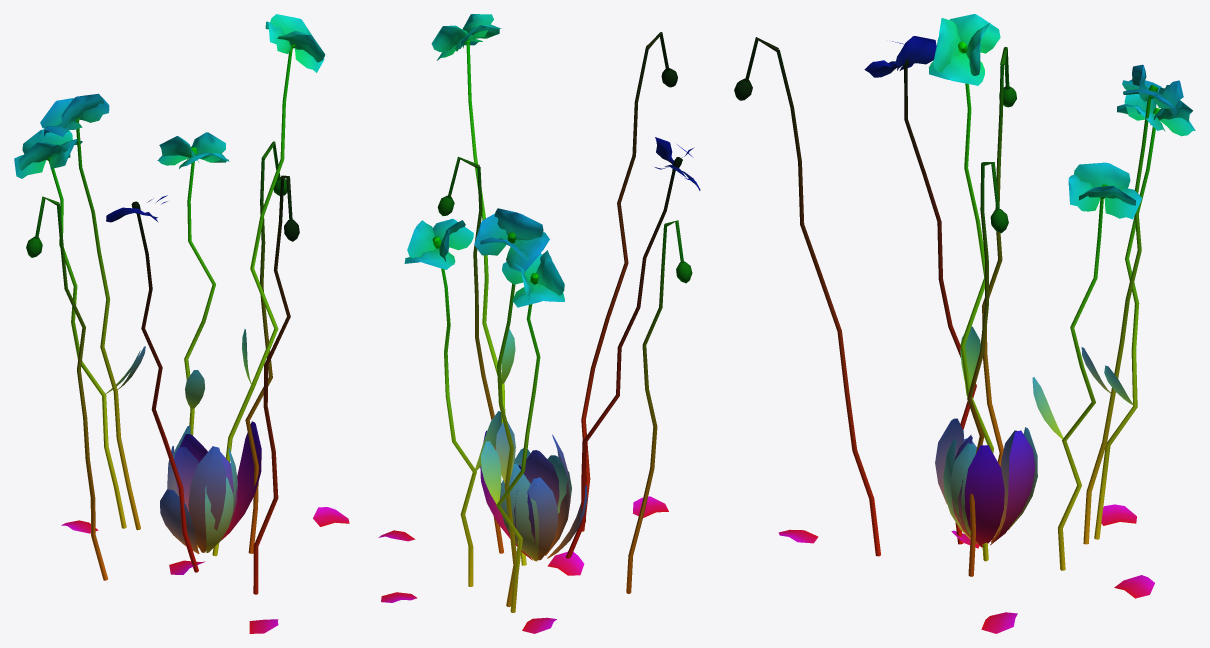
File: SM_Flower_Poppy_A.fbx
The picture shows the model from 3 angles, left to right: view 1: azimuth 30°, elevation 25°; view 2: azimuth 150°, elevation 25°; view 3: azimuth 270°, elevation 25°; orthographic projection. The views are drawn at different scales.
Visible parts, largest first — view 1: SM_Flower_Poppy_A; view 2: SM_Flower_Poppy_A; view 3: SM_Flower_Poppy_A.
Part boxes in pixels (<box>): SM_Flower_Poppy_A: <box>14,14,349,633</box>; SM_Flower_Poppy_A: <box>378,14,700,633</box>; SM_Flower_Poppy_A: <box>734,14,1195,633</box>.
Bounding box in the file's own units: 0.3799 × 0.606 × 0.4414.
